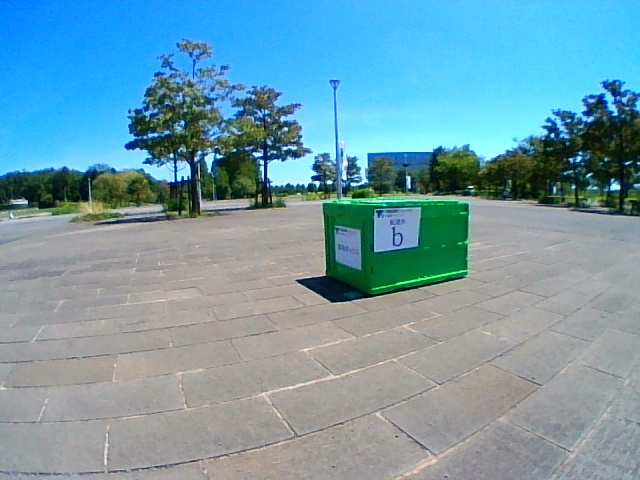green_box: (322, 198, 469, 296)
tag_b: (376, 210, 417, 247)
